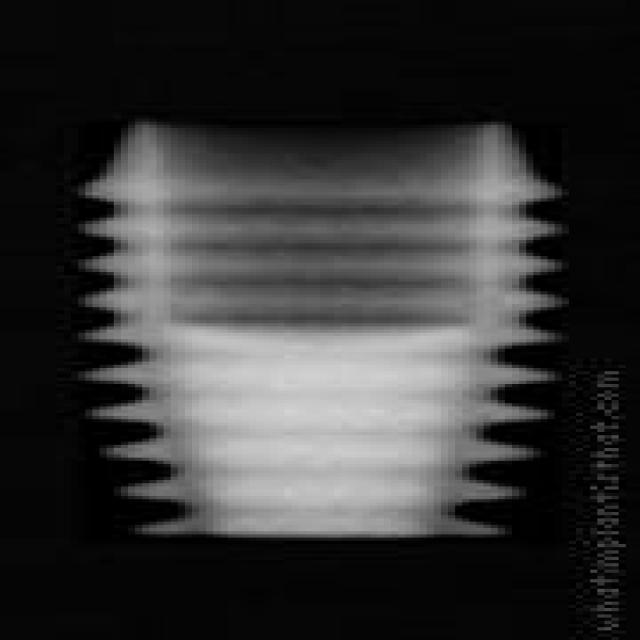OsseoLink Implant: (78, 122, 562, 544)
